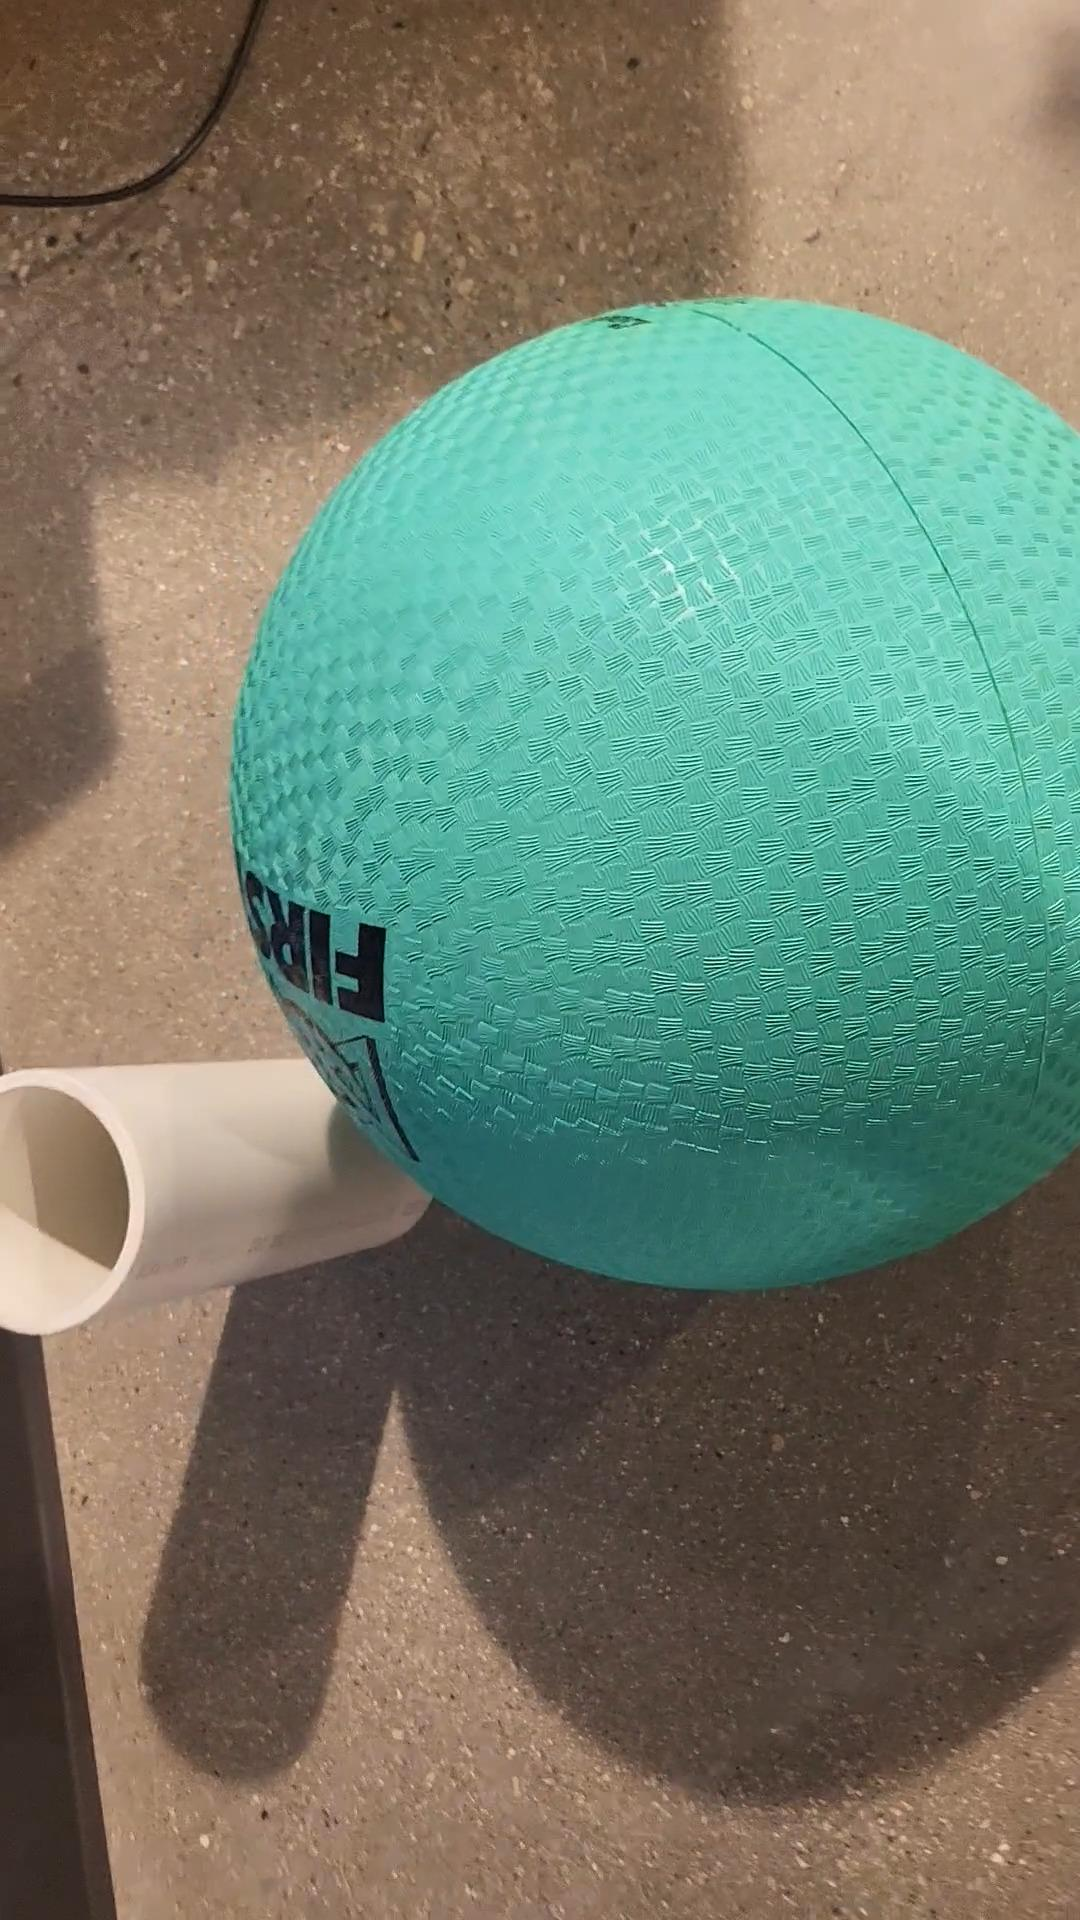algae: (244, 301, 1080, 1307)
coral: (0, 1040, 450, 1337)
